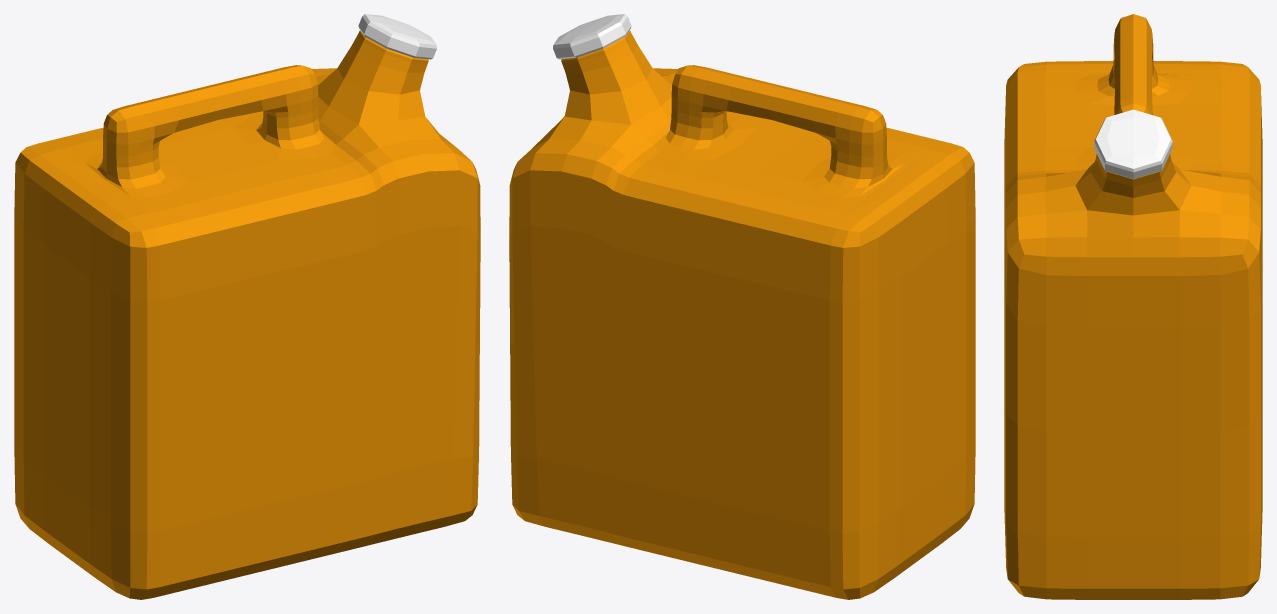
Rendered from yellowJerrycan.fbx.
The picture shows the model from 3 angles, left to right: view 1: azimuth 30°, elevation 25°; view 2: azimuth 150°, elevation 25°; view 3: azimuth 270°, elevation 25°; orthographic projection.
Visible parts, largest first — view 1: yellowJerrycan; view 2: yellowJerrycan; view 3: yellowJerrycan.
Part boxes in pixels (bbox=[...]): yellowJerrycan: bbox=[14, 14, 480, 599]; yellowJerrycan: bbox=[509, 14, 975, 599]; yellowJerrycan: bbox=[1004, 14, 1262, 599].
Size of the model in its own units: 30.08 by 37.08 by 18.46.
